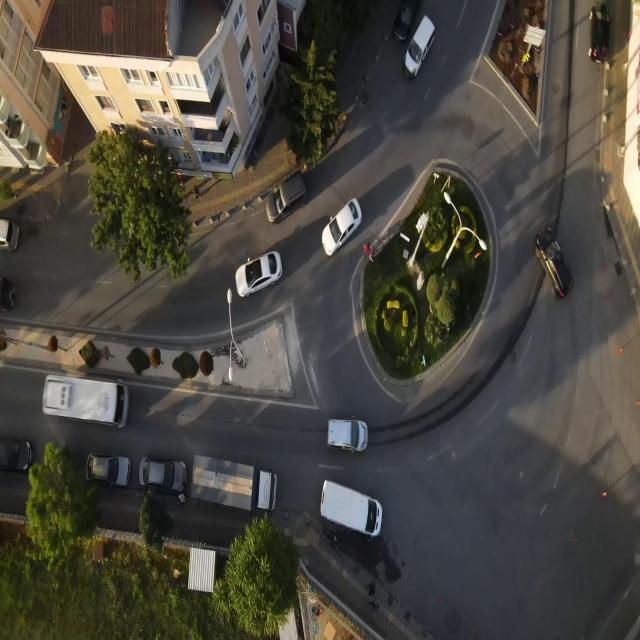p3rson: (368, 596, 381, 618), (177, 488, 188, 508), (192, 183, 204, 200), (364, 582, 376, 597), (363, 240, 370, 260), (370, 245, 375, 262)
